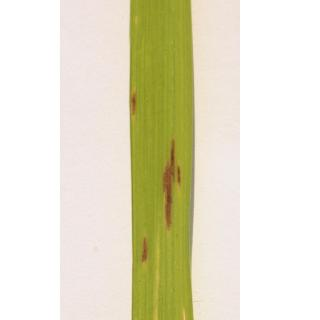bercak-Cokelat: (162, 137, 182, 231), (141, 233, 155, 263), (128, 90, 144, 116)
